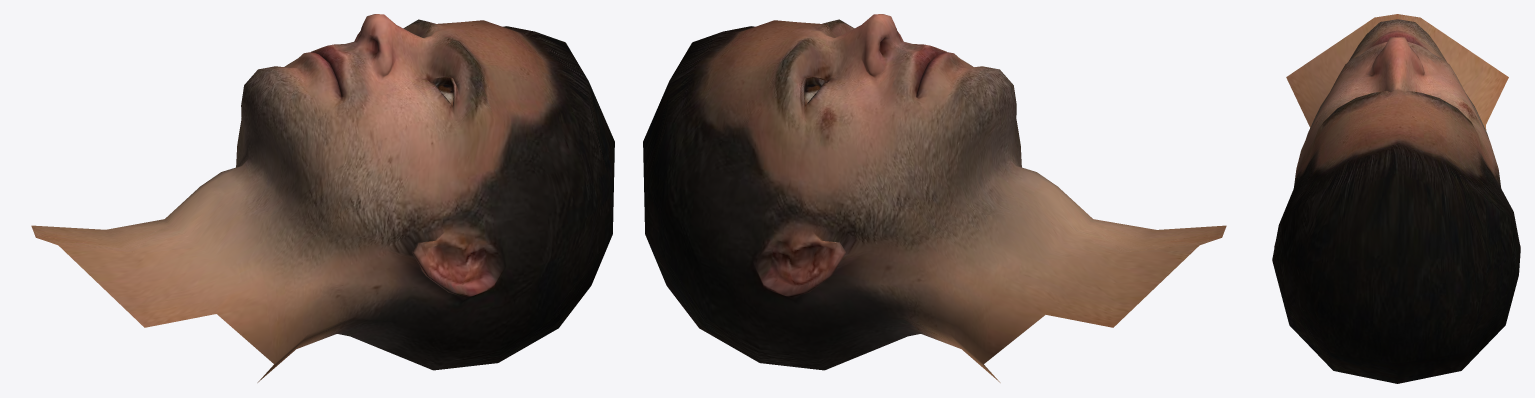
Rendered from head_us_ranger_wolf.glb.
3 renders of one model, left to right at view 1: azimuth 30°, elevation 25°; view 2: azimuth 150°, elevation 25°; view 3: azimuth 270°, elevation 25°, orthographic. The views are drawn at different scales.
Size of the model in its own units: 16.73 by 10.2 by 7.57.
Materials: 1 (1 with a texture image).
